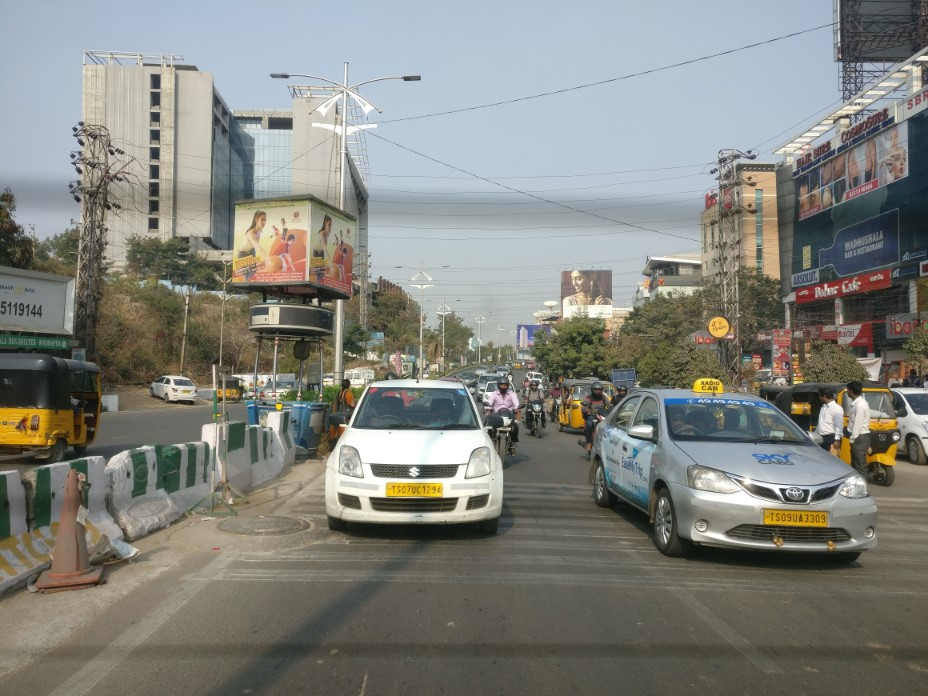swift desire: (327, 376, 507, 535)
